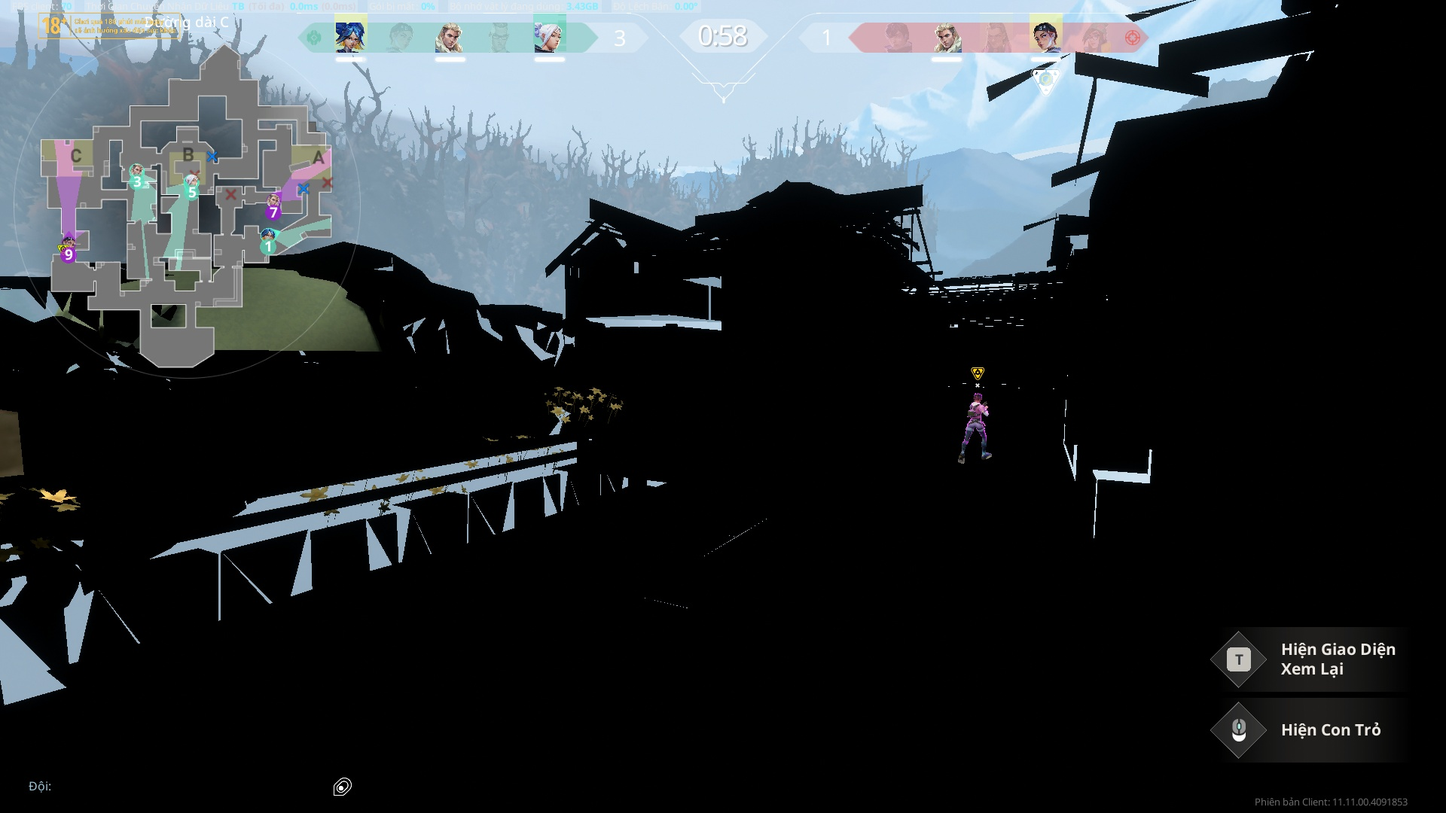body: (968, 401, 985, 423)
head: (973, 392, 983, 401)
